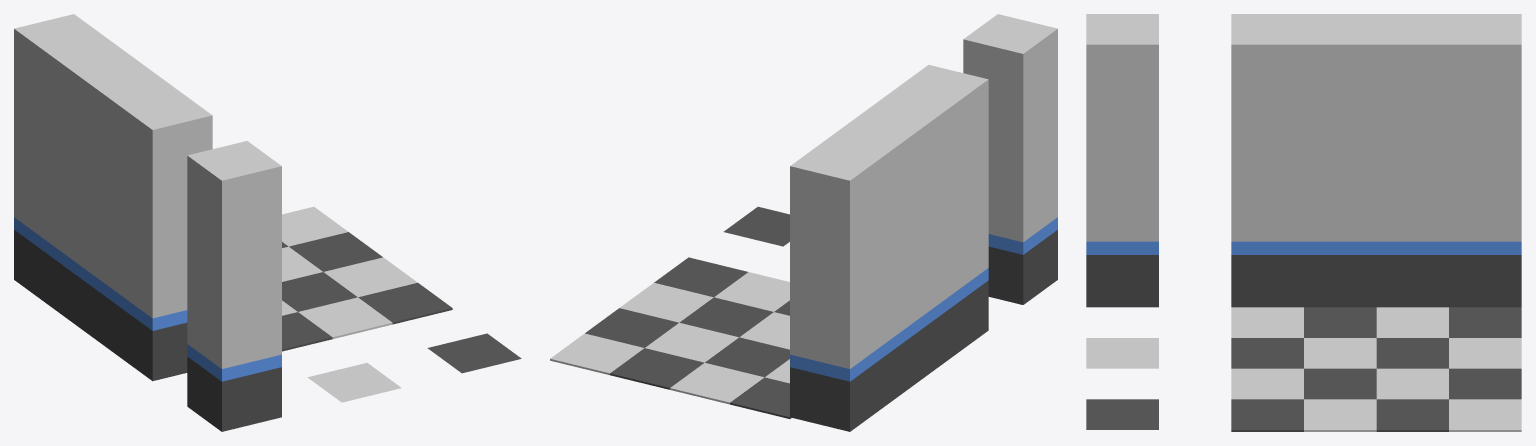
File: floor.fbx
3 views of the same model, side by side, from view 1: azimuth 30°, elevation 25°; view 2: azimuth 150°, elevation 25°; view 3: azimuth 270°, elevation 25° (orthographic). The views are drawn at different scales.
Parts seen in each view (by area): view 1: Cube, Cube.001, Plane, Plane.002, Plane.001; view 2: Cube, Plane, Cube.001, Plane.002; view 3: Cube, Plane, Cube.001, Plane.001, Plane.002.
Boxes of the visible parts, box(x1,y1,x2,y2) form: Cube: box(14, 14, 212, 381); Cube.001: box(187, 141, 281, 431); Plane: box(282, 206, 452, 351); Plane.002: box(427, 333, 521, 373); Plane.001: box(307, 363, 401, 402); Cube: box(790, 65, 988, 431); Plane: box(550, 257, 791, 418); Cube.001: box(963, 14, 1057, 304); Plane.002: box(723, 206, 789, 246); Cube: box(1231, 14, 1521, 307); Plane: box(1231, 307, 1521, 431); Cube.001: box(1086, 14, 1158, 307); Plane.001: box(1086, 338, 1158, 368); Plane.002: box(1086, 399, 1158, 429).
Size of the model in its own units: 500 by 403 by 600.
